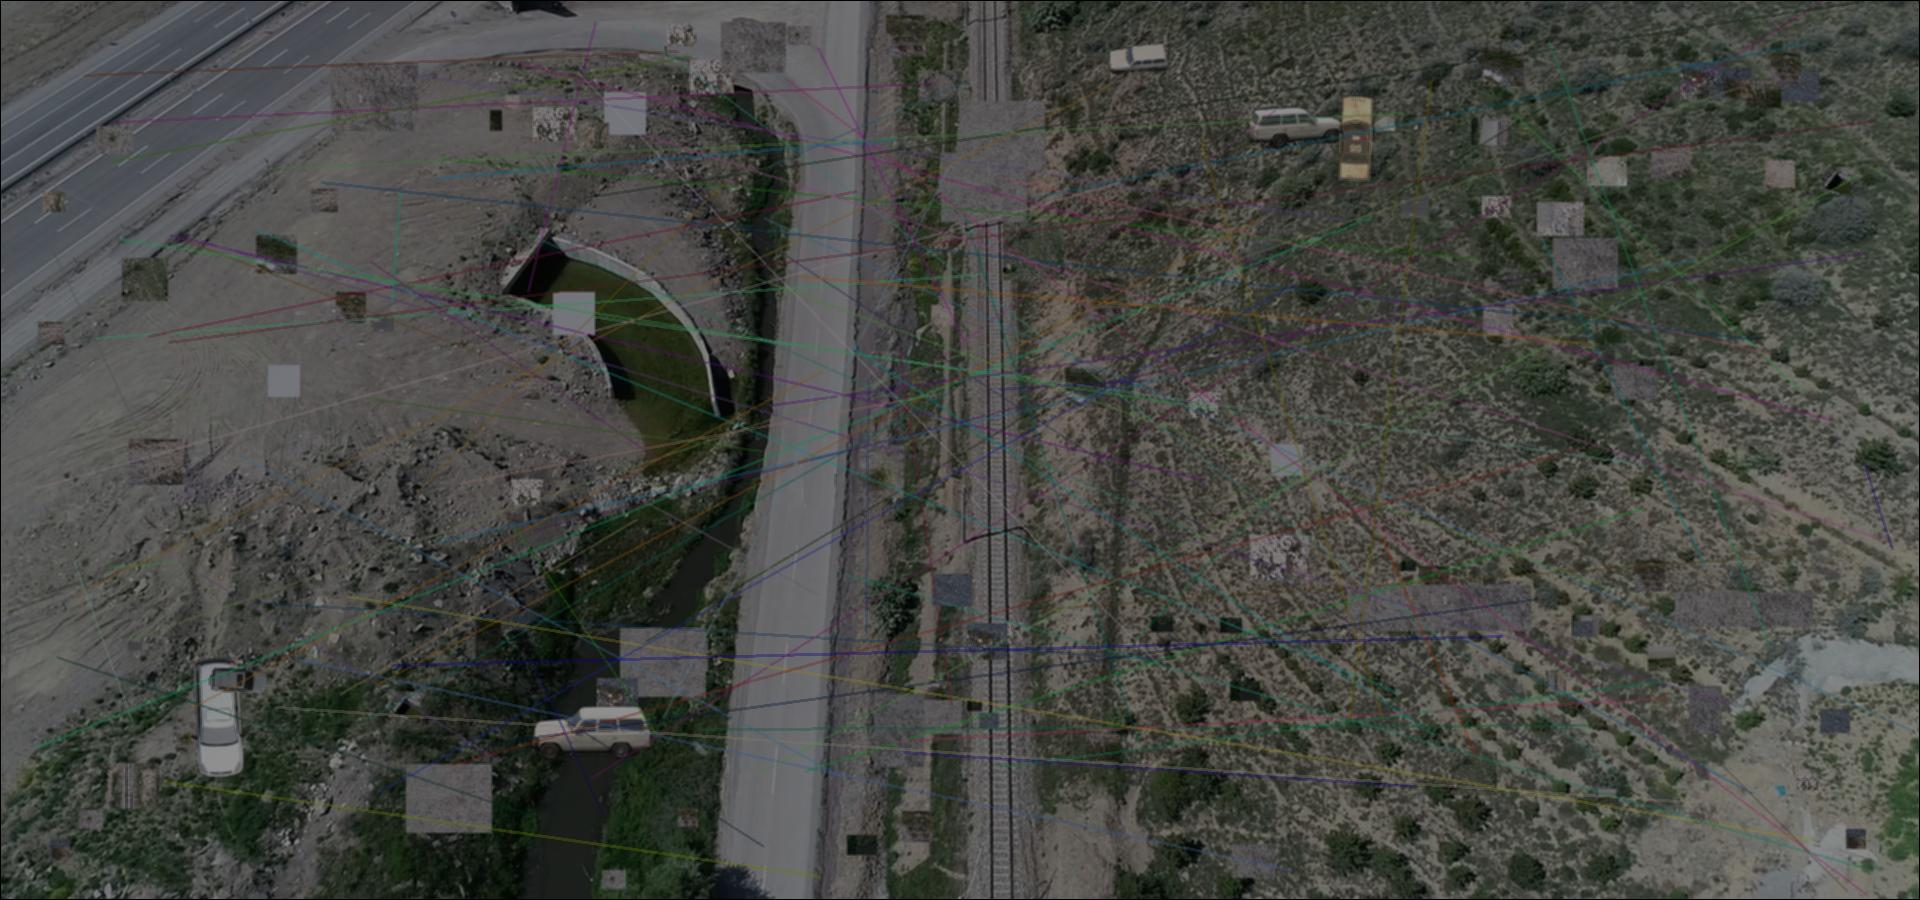arac: (182, 656, 251, 779), (530, 704, 651, 760), (1250, 107, 1343, 149), (1333, 96, 1378, 182), (1108, 44, 1169, 75), (209, 667, 269, 696)
